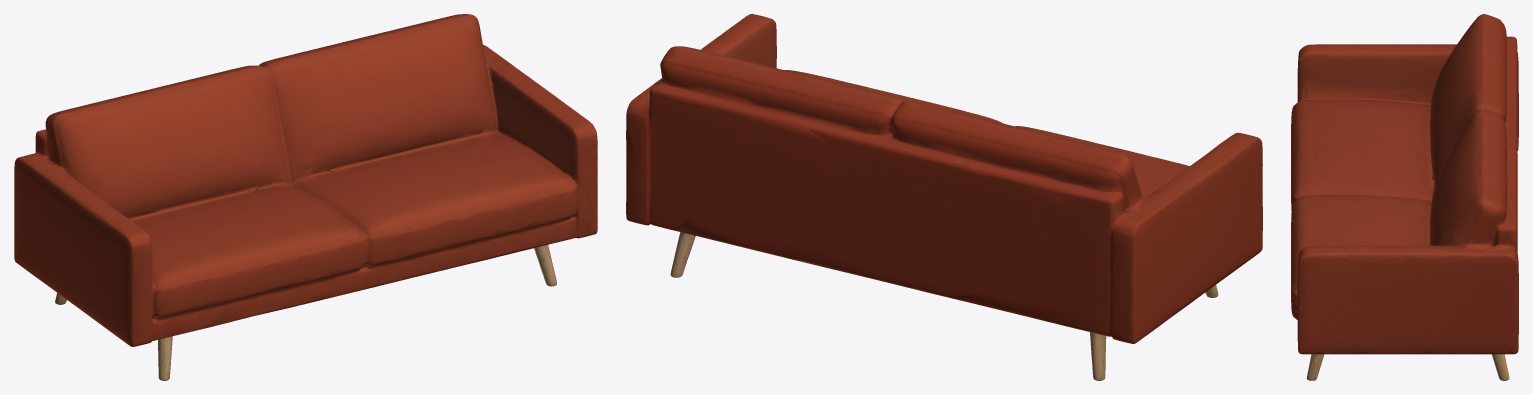
The model's file is sofa_ia_01.glb.
The picture shows the model from 3 angles, left to right: view 1: azimuth 30°, elevation 25°; view 2: azimuth 150°, elevation 25°; view 3: azimuth 270°, elevation 25°; orthographic projection. The views are drawn at different scales.
Parts seen in each view (by area): view 1: Mesh_0; view 2: Mesh_0; view 3: Mesh_0.
Part boxes in pixels (x1=…): Mesh_0: x1=14, y1=14, x2=597, y2=380; Mesh_0: x1=626, y1=14, x2=1262, y2=380; Mesh_0: x1=1291, y1=14, x2=1518, y2=380.
Size of the model in its own units: 1.91 by 0.7767 by 0.8651.
Materials: 1 (1 with a texture image).
